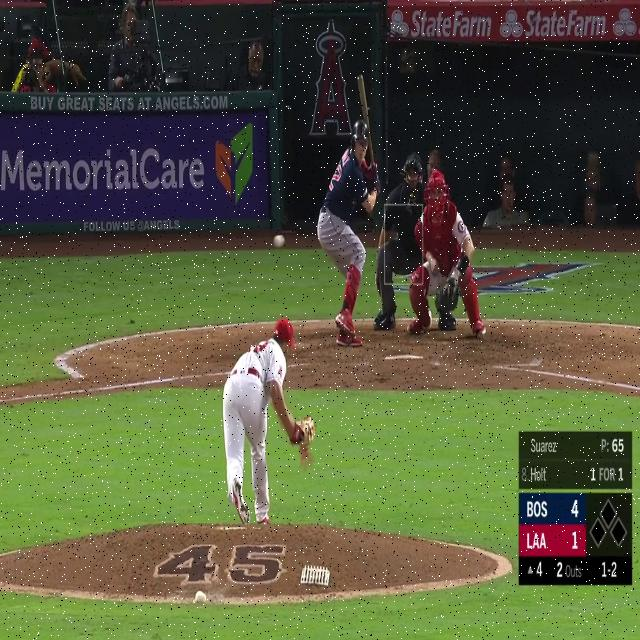baseball: (274, 234, 284, 248)
